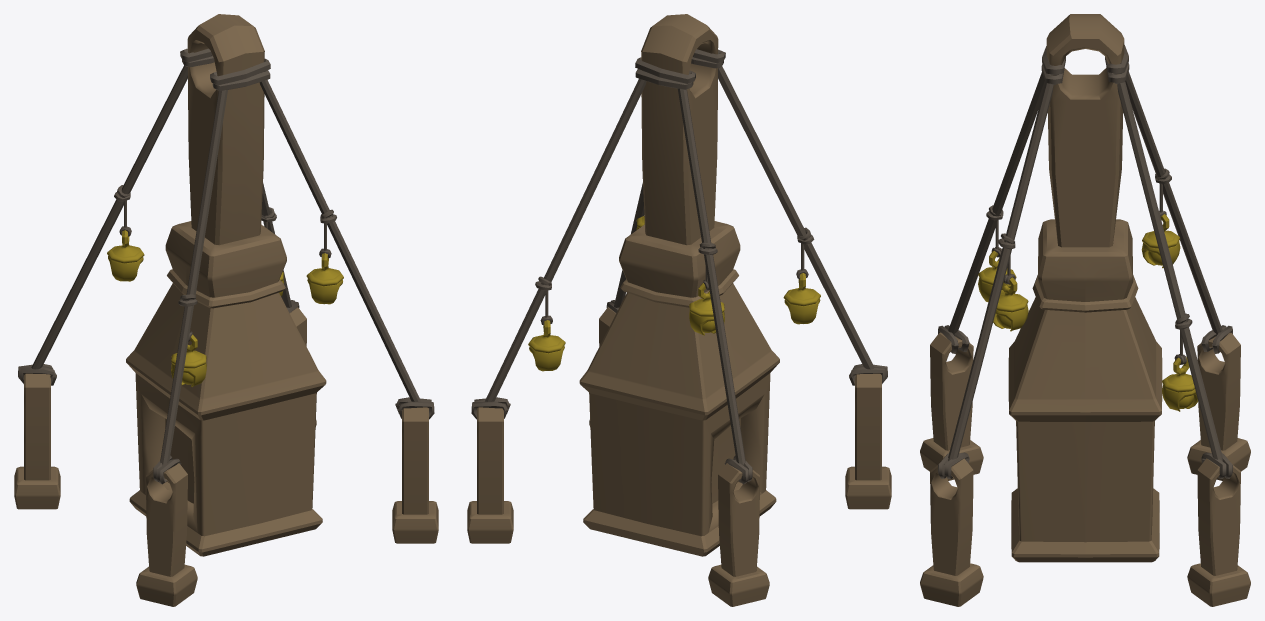
Rendered from Checkpoint_Landmark_Mesh_01.fbx.
3 views of the same model, side by side, from view 1: azimuth 30°, elevation 25°; view 2: azimuth 150°, elevation 25°; view 3: azimuth 270°, elevation 25° (orthographic). The views are drawn at different scales.
Parts seen in each view (by area): view 1: polySurface422; view 2: polySurface422; view 3: polySurface422.
Boxes of the visible parts, box(x1,y1,x2,y2) form: polySurface422: box(14, 14, 438, 606); polySurface422: box(467, 14, 891, 606); polySurface422: box(920, 14, 1250, 606).
Size of the model in its own units: 2423 by 3822 by 2227.
